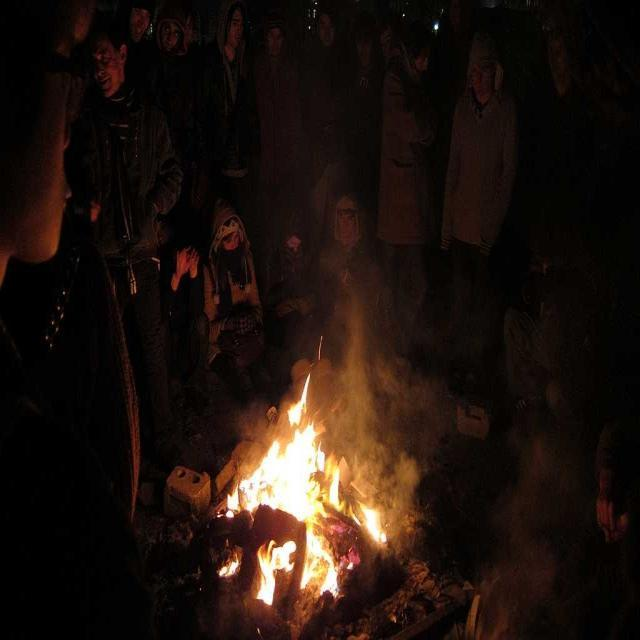Fire: (251, 418, 338, 540)
